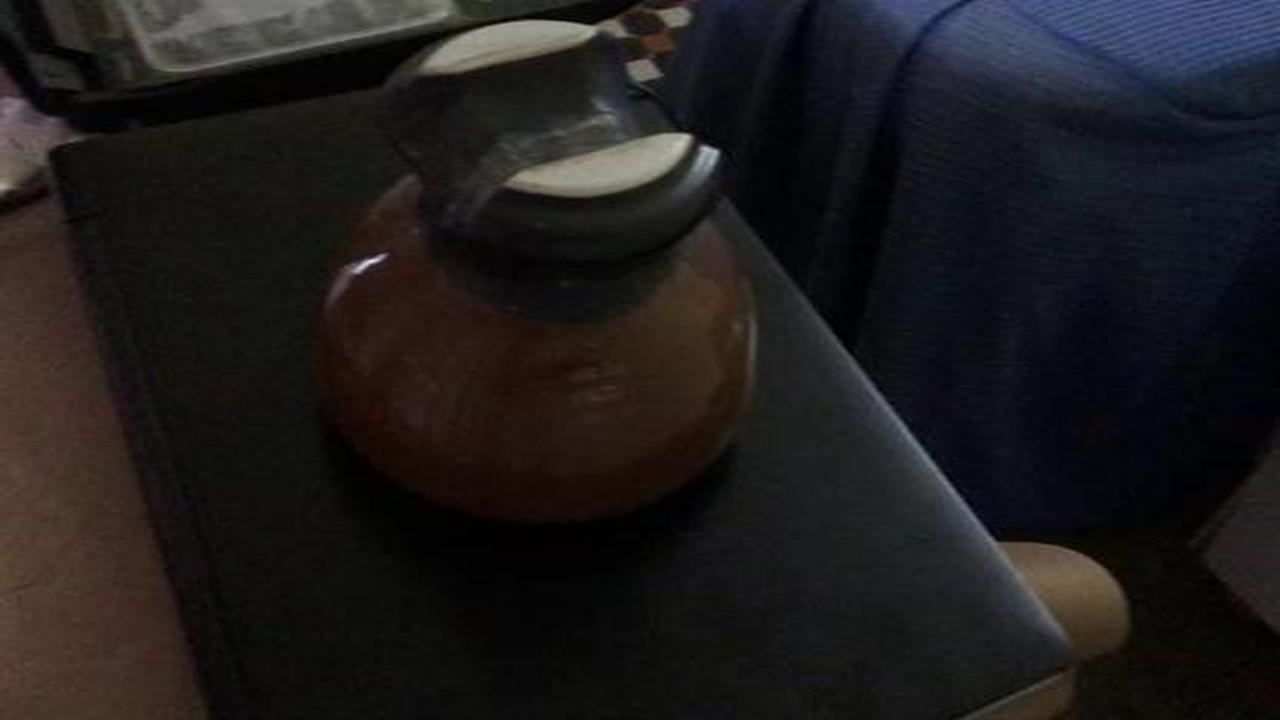insulator_pin: (298, 16, 782, 560)
